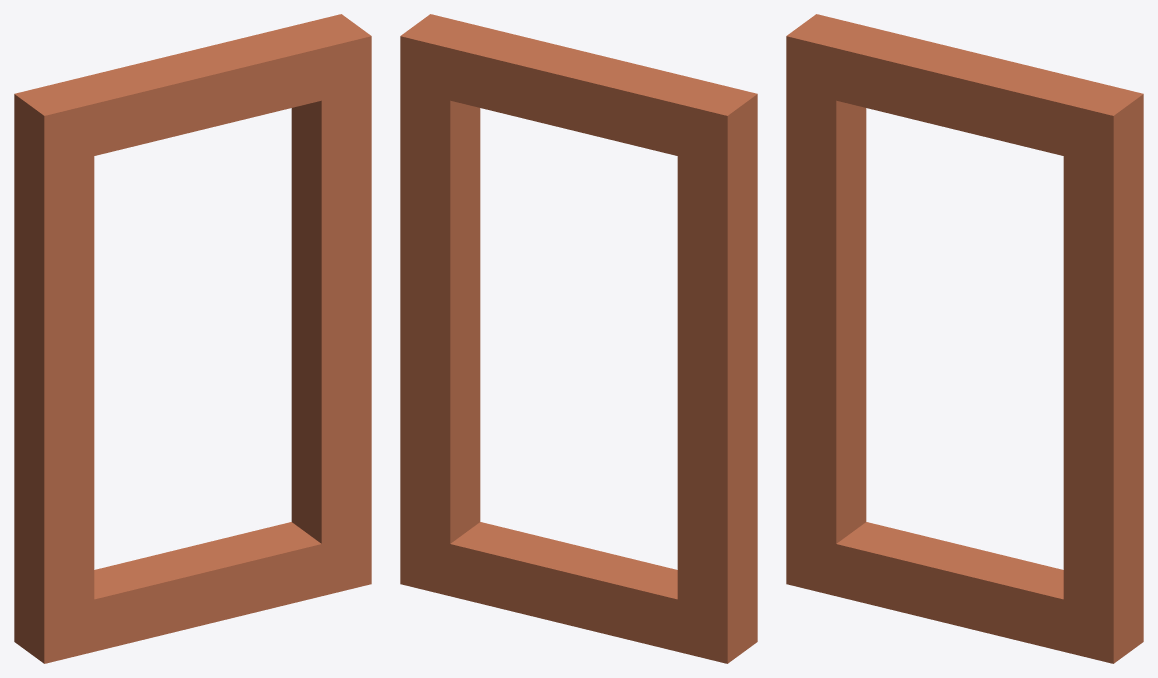
File: window-brown-tall.obj
3 views of the same model, side by side, from view 1: azimuth 30°, elevation 25°; view 2: azimuth 150°, elevation 25°; view 3: azimuth 330°, elevation 25° (orthographic).
Size of the model in its own units: 0.3125 by 0.5 by 0.05.
